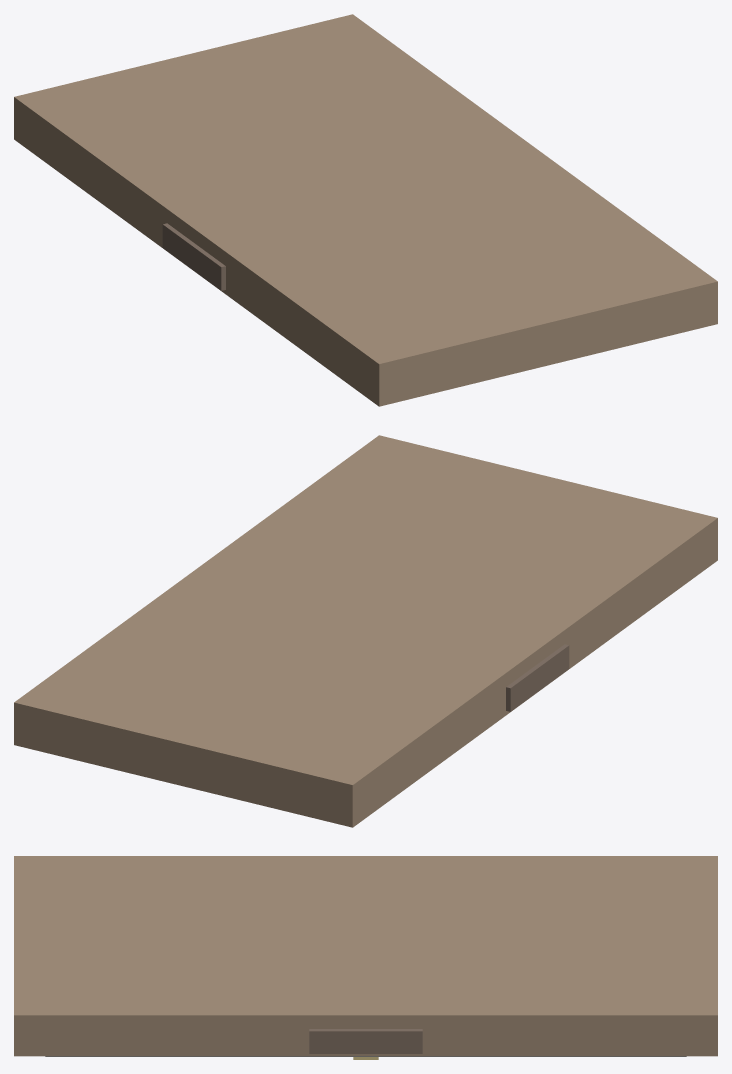
Rendered from door.glb.
3 renders of one model, top to bottom at view 1: azimuth 30°, elevation 25°; view 2: azimuth 150°, elevation 25°; view 3: azimuth 270°, elevation 25°, orthographic. The views are drawn at different scales.
Parts seen in each view (by area): view 1: part_0, part_3; view 2: part_0, part_3; view 3: part_0, part_4, part_1.
Part boxes in pixels (left/top/right/bottom): part_0: left=14, top=14, right=717, bottom=406; part_3: left=162, top=223, right=225, bottom=290; part_0: left=14, top=435, right=717, bottom=827; part_3: left=506, top=644, right=569, bottom=711; part_0: left=14, top=856, right=717, bottom=1056; part_4: left=309, top=1029, right=422, bottom=1053; part_1: left=45, top=1056, right=686, bottom=1056.
Bounding box in the file's own units: 1.54 × 0.3 × 2.8.
